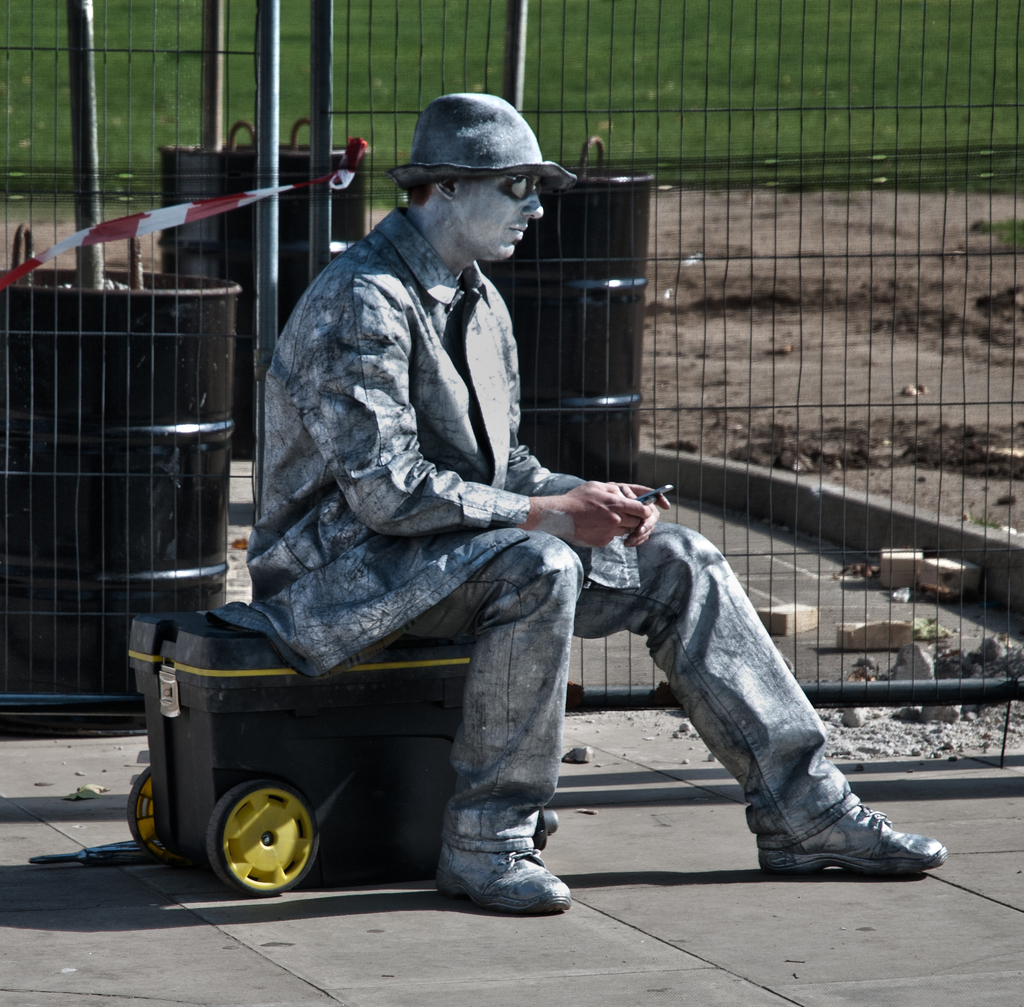face: (460, 145, 542, 259)
